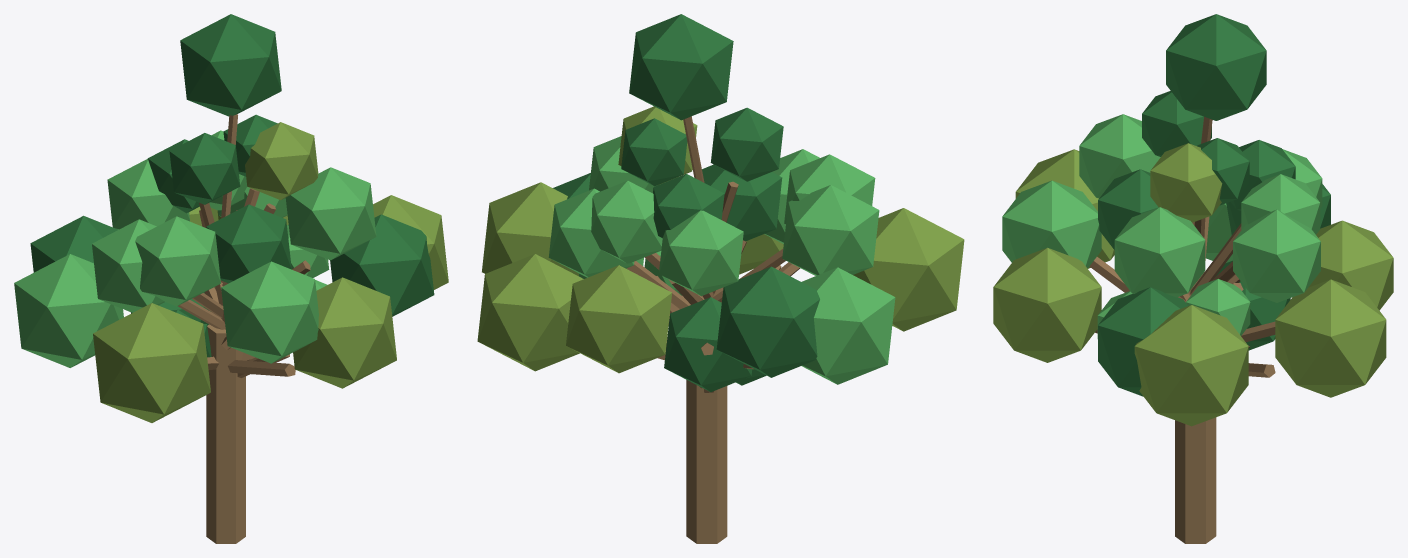
File: Tree_12.glb
3 views of the same model, side by side, from view 1: azimuth 30°, elevation 25°; view 2: azimuth 150°, elevation 25°; view 3: azimuth 270°, elevation 25° (orthographic). The views are drawn at different scales.
Parts seen in each view (by area): view 1: T12_Sphere_07, T12_Sphere_11, T12_Sphere_03, T12_Sphere_08, T12_Sphere_12, T12_Trunk, T12_Sphere_18, T12_Sphere_13, T12_Sphere_20, T12_Sphere_17, T12_Sphere_23, T12_Sphere_16 (+11 smaller); view 2: T12_Sphere_05, T12_Sphere_06, T12_Sphere_10, T12_Sphere_07, T12_Sphere_03, T12_Sphere_11, T12_Sphere_16, T12_Trunk, T12_Sphere_15, T12_Sphere_09, T12_Sphere_02, T12_Sphere_19 (+12 smaller); view 3: T12_Sphere_09, T12_Sphere_05, T12_Sphere_08, T12_Sphere_03, T12_Sphere_18, T12_Sphere_12, T12_Sphere_14, T12_Trunk, T12_Sphere_13, T12_Sphere_10, T12_Sphere_23, T12_Sphere_20 (+13 smaller).
Part boxes in pixels (x1,y1,x2,y2): T12_Sphere_07: (93, 303, 210, 422); T12_Sphere_11: (14, 254, 123, 367); T12_Sphere_03: (180, 14, 281, 116); T12_Sphere_08: (293, 277, 396, 388); T12_Sphere_12: (221, 261, 318, 363); T12_Trunk: (206, 324, 245, 543); T12_Sphere_18: (285, 167, 376, 260); T12_Sphere_13: (330, 214, 434, 316); T12_Sphere_20: (135, 216, 220, 306); T12_Sphere_17: (206, 204, 291, 283); T12_Sphere_23: (245, 122, 318, 200); T12_Sphere_16: (92, 219, 164, 312); T12_Sphere_05: (477, 254, 583, 371); T12_Sphere_06: (716, 266, 819, 377); T12_Sphere_10: (566, 265, 671, 373); T12_Sphere_07: (853, 208, 964, 331); T12_Sphere_03: (629, 14, 733, 120); T12_Sphere_11: (801, 267, 895, 384); T12_Sphere_16: (782, 185, 879, 275); T12_Trunk: (686, 380, 727, 543); T12_Sphere_15: (658, 210, 743, 296); T12_Sphere_09: (482, 182, 578, 275); T12_Sphere_02: (664, 297, 752, 392); T12_Sphere_19: (591, 180, 662, 263); T12_Sphere_09: (1134, 305, 1248, 426); T12_Sphere_05: (1275, 279, 1386, 397); T12_Sphere_08: (993, 247, 1101, 362); T12_Sphere_03: (1166, 14, 1266, 120); T12_Sphere_18: (1114, 207, 1205, 297); T12_Sphere_12: (1002, 180, 1101, 268); T12_Sphere_14: (1233, 209, 1320, 302); T12_Trunk: (1175, 417, 1216, 543); T12_Sphere_13: (1098, 287, 1187, 396); T12_Sphere_10: (1308, 220, 1393, 310); T12_Sphere_23: (1150, 143, 1222, 222); T12_Sphere_20: (1079, 114, 1160, 198).
Bounding box in the file's own units: 2.81 × 3.4 × 2.33.
